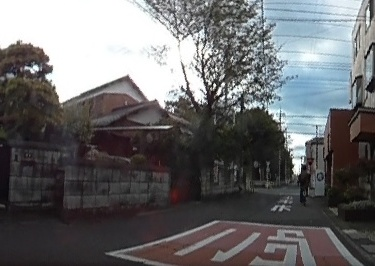person: (296, 164, 312, 200)
